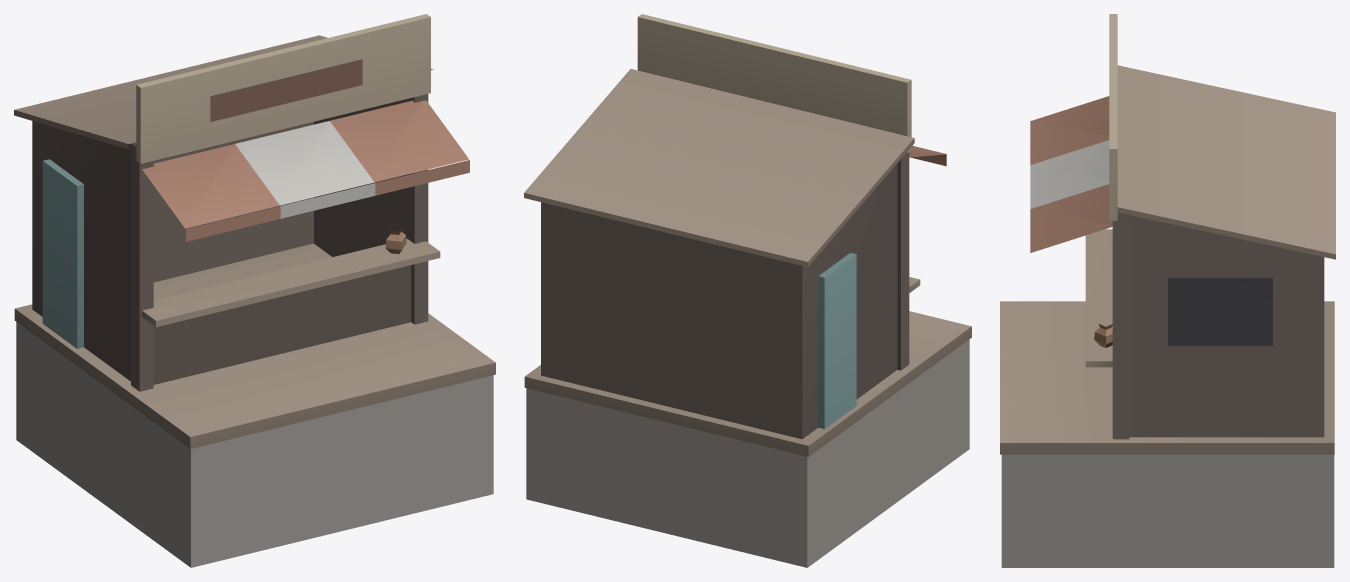
File: gifts.lod2.glb
The picture shows the model from 3 angles, left to right: view 1: azimuth 30°, elevation 25°; view 2: azimuth 150°, elevation 25°; view 3: azimuth 270°, elevation 25°; orthographic projection. The views are drawn at different scales.
Bounding box in the file's own units: 4 × 5.47 × 4.
